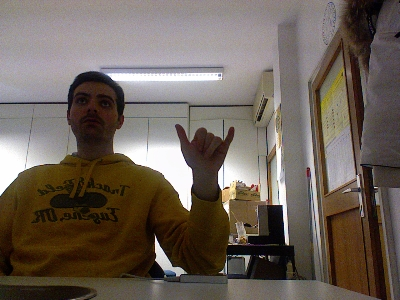六六六: (172, 122, 235, 177)
